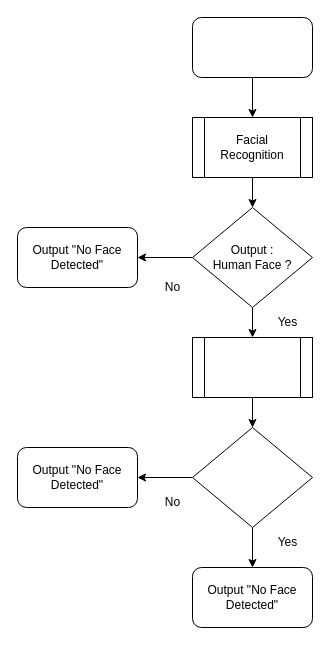
Some shapes in this 330 by 645 pixel diagram are drawn without their labels. The shapes that lost their labels are listed below. From the top down, each one's box as (x1, y1, x2, y2) in pixels, then its label:
(192, 16, 312, 78): Input Image
(192, 336, 312, 398): Facial Identification
(192, 426, 312, 528): Output : Authorized Person?
